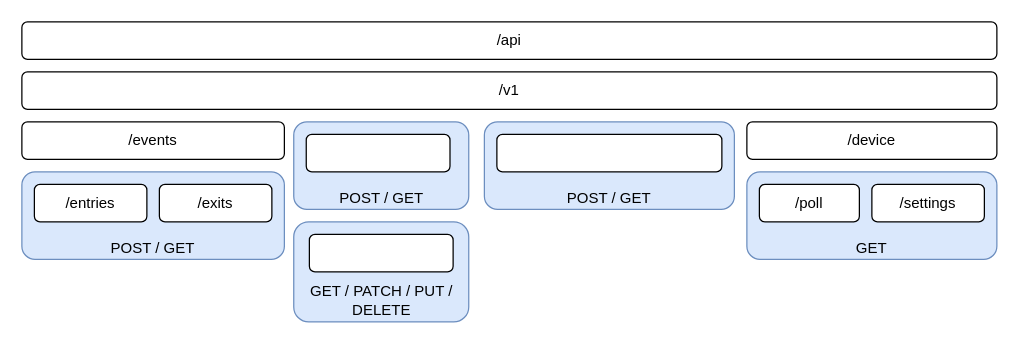
This 1019x344 diagram has some shape labels left out. The centre of each missing label's shape, as x and y in pixels:
"/<id>" goes at point (380, 252).
"/entrances" goes at point (377, 152).
"/images" goes at point (609, 152).
